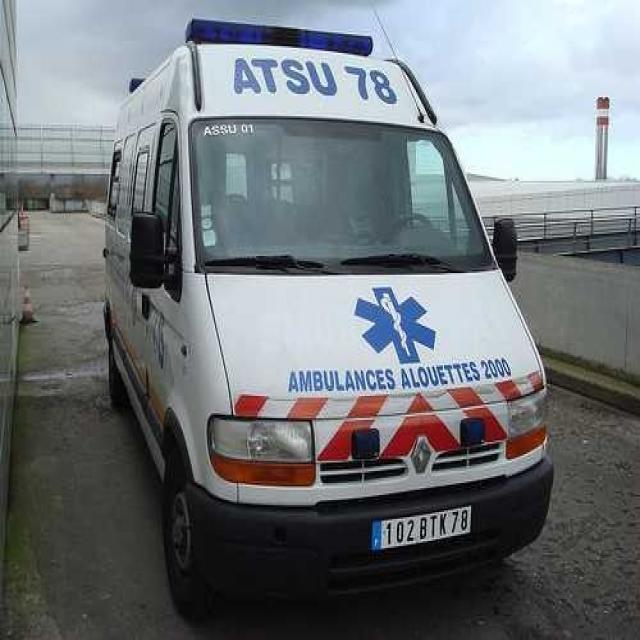emergency-vehicle: (108, 17, 550, 587)
